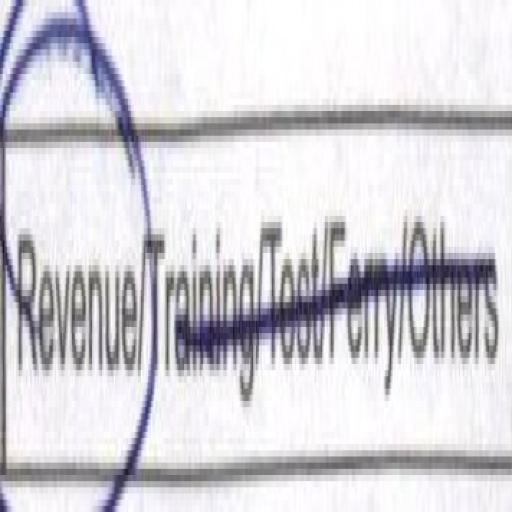check: (2, 45, 145, 512)
